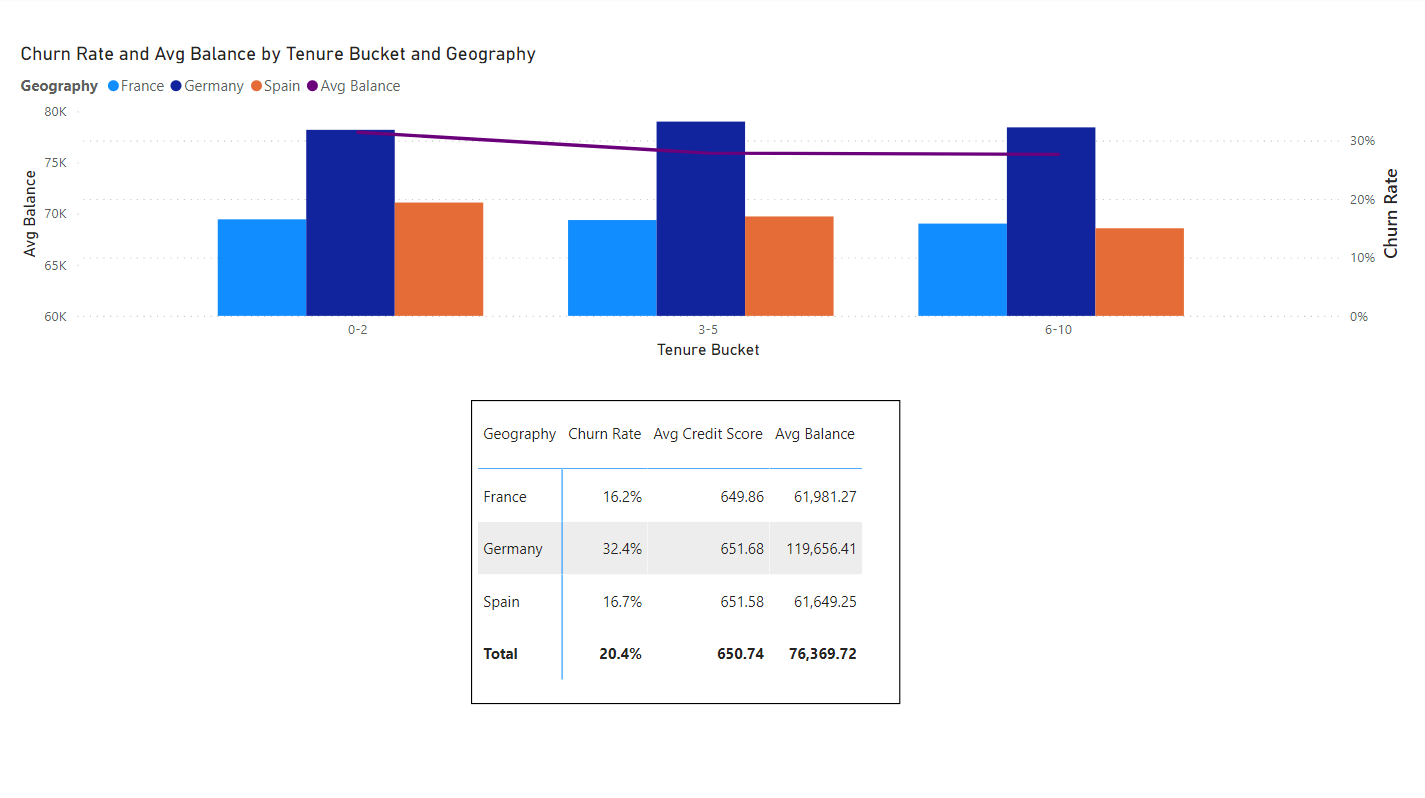

Layout of this report page (visuals, bound fields, positions):
{"tool":"powerbi","page":{"name":"Geography Insights","canvas":[1280,720],"ordinal":2},"visuals":[{"type":"pivotTable","fields":{"Rows":["bank_churn_clean.Geography"],"Values":["bank_churn_clean.Churn Rate","bank_churn_clean.Avg Credit Score","bank_churn_clean.Avg Balance"]},"box":[424,360,384,272],"z":0},{"type":"lineClusteredColumnComboChart","fields":{"Y":["bank_churn_clean.Churn Rate"],"Y2":["bank_churn_clean.Avg Balance"],"Series":["bank_churn_clean.Geography"],"Category":["bank_churn_clean.Tenure Bucket"]},"box":[16,40,1248,288],"z":1000}]}

Visuals, with their boxes in screenshot pixels (x1, y1, x2, y2), scaled from the page's 1280x720 canvas onto the 1425x798 screenshot:
pivotTable - bank_churn_clean.Geography x bank_churn_clean.Churn Rate: box=[472, 399, 900, 700]
lineClusteredColumnComboChart - bank_churn_clean.Churn Rate x bank_churn_clean.Avg Balance: box=[18, 44, 1407, 364]
